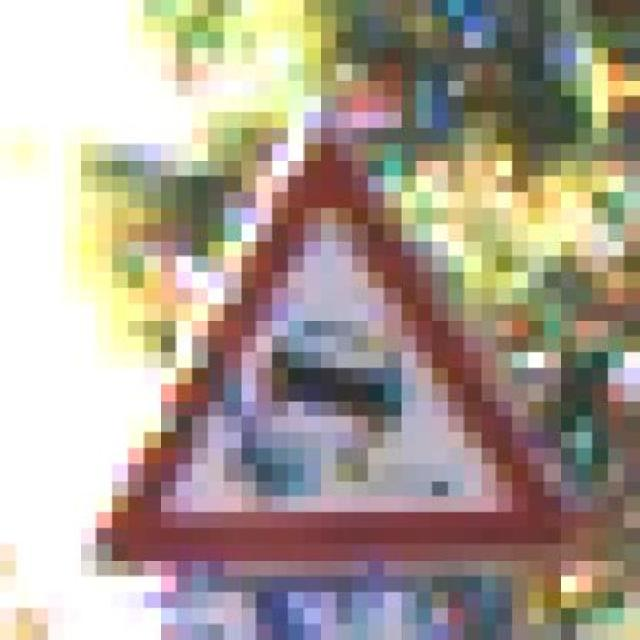Slippery Road Ahead: (80, 112, 592, 576)
